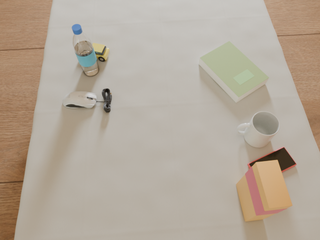book: (199, 41, 269, 103)
bottle: (72, 24, 99, 76)
box: (236, 160, 292, 221)
cup: (237, 111, 280, 148)
mouse: (63, 92, 98, 108)
phone: (248, 147, 296, 172)
toy_car: (92, 43, 110, 61)
